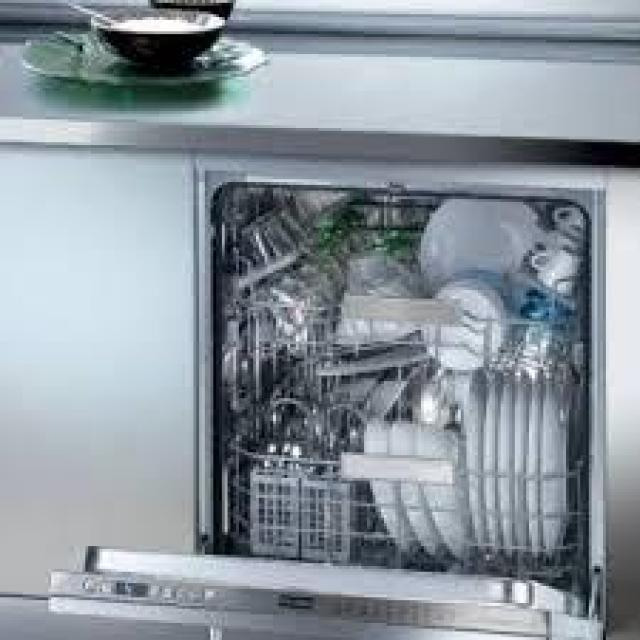dishwasher: (46, 156, 617, 640)
